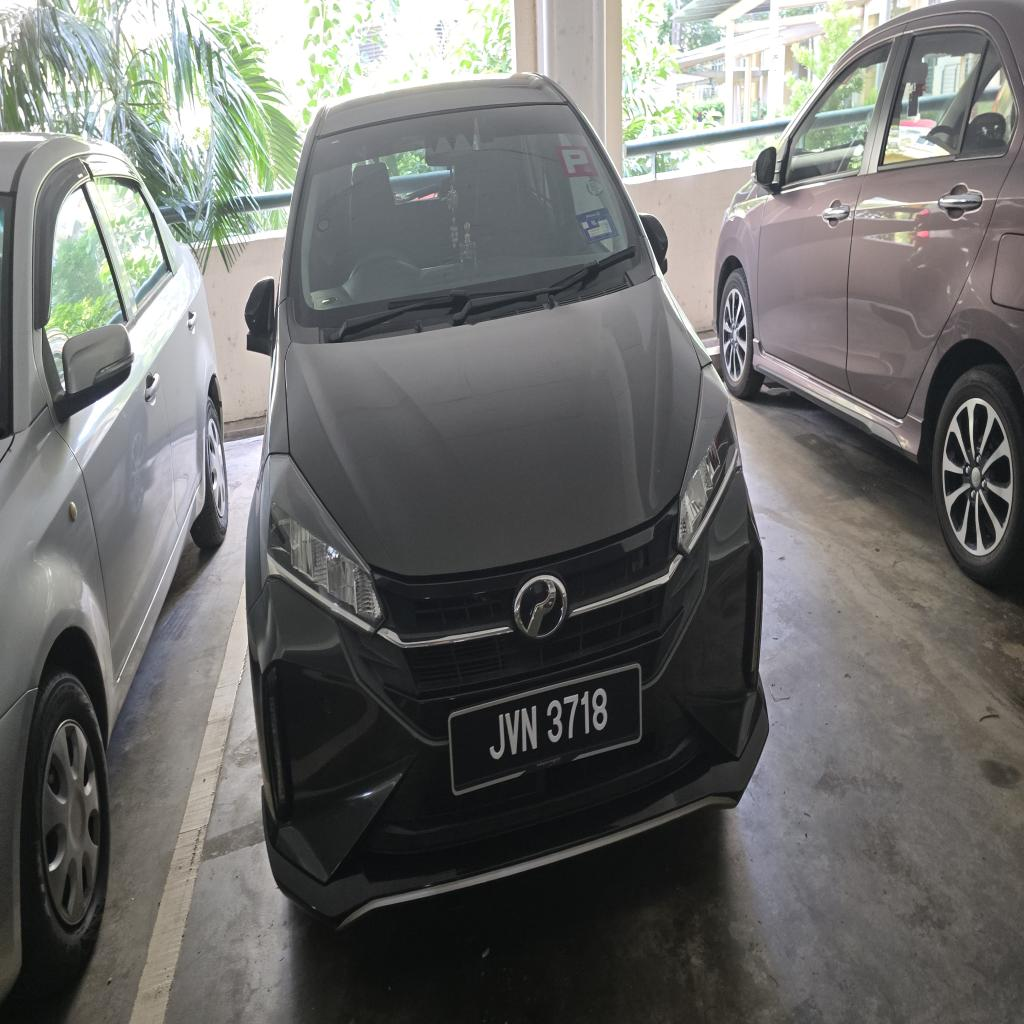car: (247, 75, 768, 922)
car plate: (449, 664, 642, 794)
